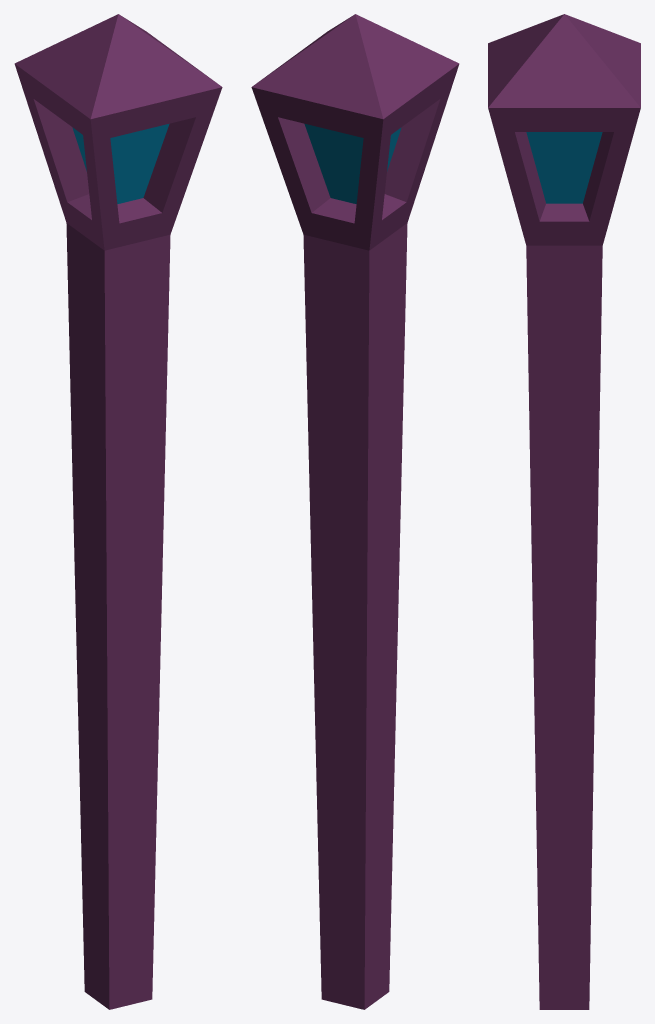
Rendered from BlueWand.fbx.
3 renders of one model, left to right at view 1: azimuth 30°, elevation 25°; view 2: azimuth 150°, elevation 25°; view 3: azimuth 270°, elevation 25°, orthographic.
Visible parts, largest first — view 1: Cube.003; view 2: Cube.003; view 3: Cube.003.
Part boxes in pixels (x1,y1,x2,y2): Cube.003: (14,14,222,1009); Cube.003: (251,14,459,1009); Cube.003: (488,14,640,1009).
Bounding box in the file's own units: 22.5 × 160 × 22.5.
